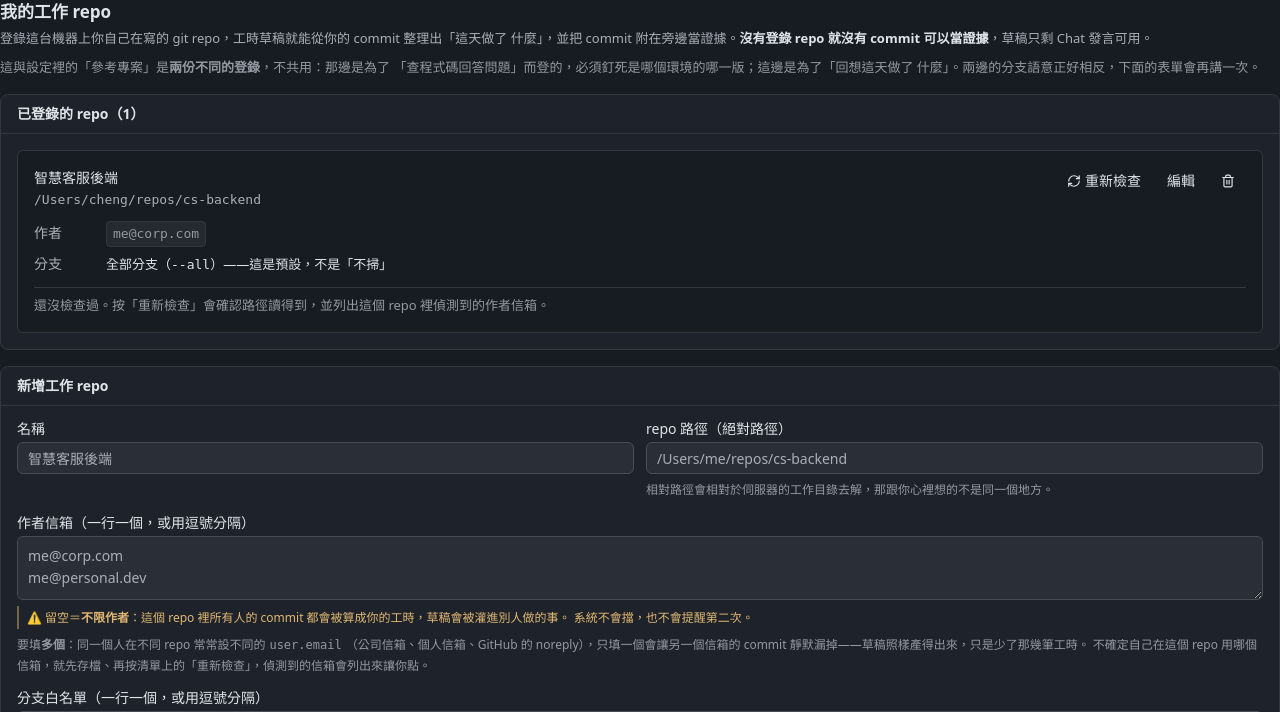
Test: 我的工作 repo：刪除要二次確認 › **按刪除不會直接刪，先跳確認對話框**
Click the button named "刪除 智慧客服後端": (1228, 181) [1210,167,1246,195]
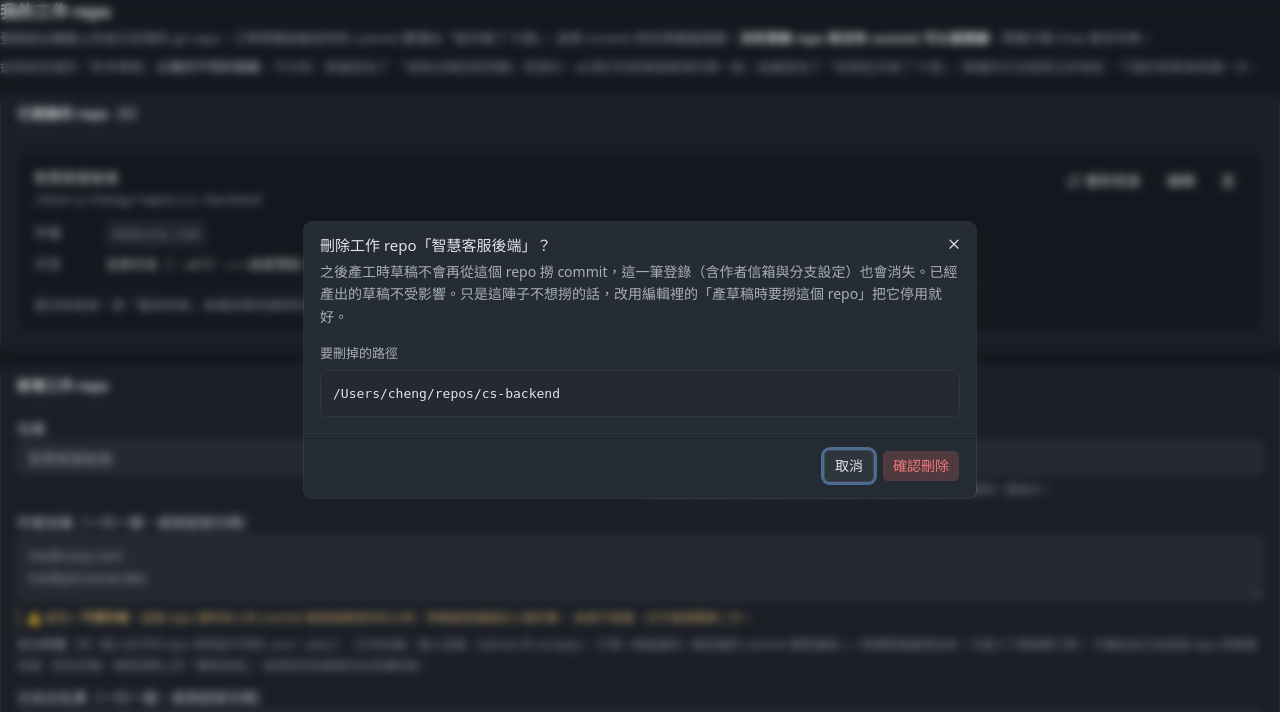
Now the heading "刪除工作 repo「智慧客服後端」？" is shown, box [320,235,552,255]
Now the text "把它停用就好" is shown, box [320,262,957,326]
Now the text "/Users/cheng/repos/cs-backend" is shown, box [320,370,960,417]
